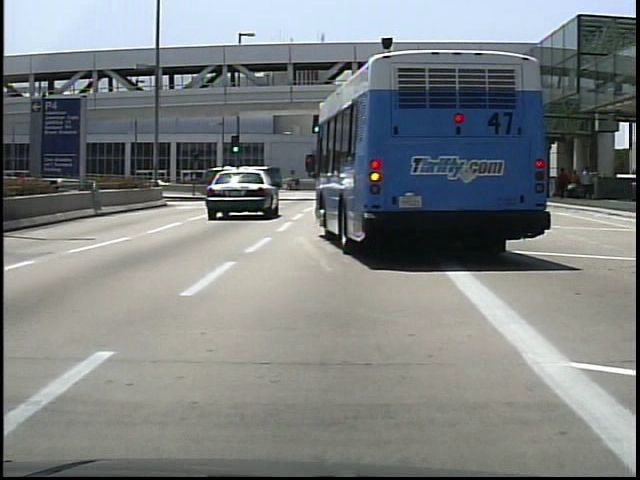person: (578, 166, 596, 200), (557, 165, 568, 200), (570, 167, 580, 200), (291, 175, 302, 194), (281, 175, 291, 192)
